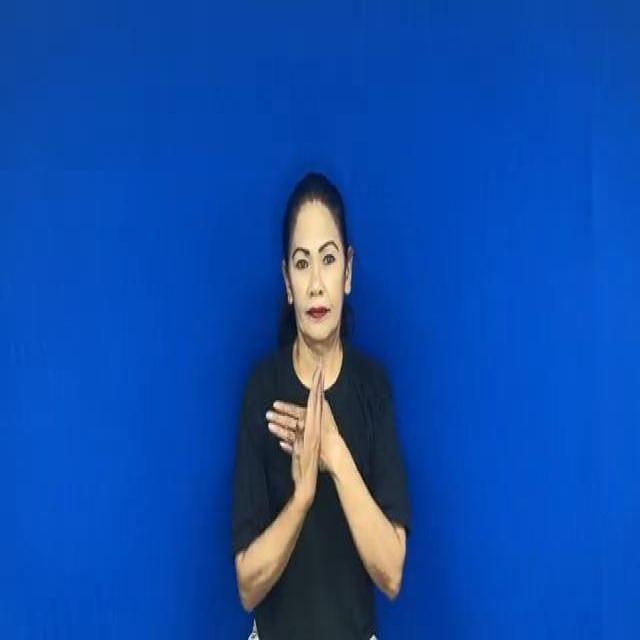bread: (269, 353, 346, 506)
